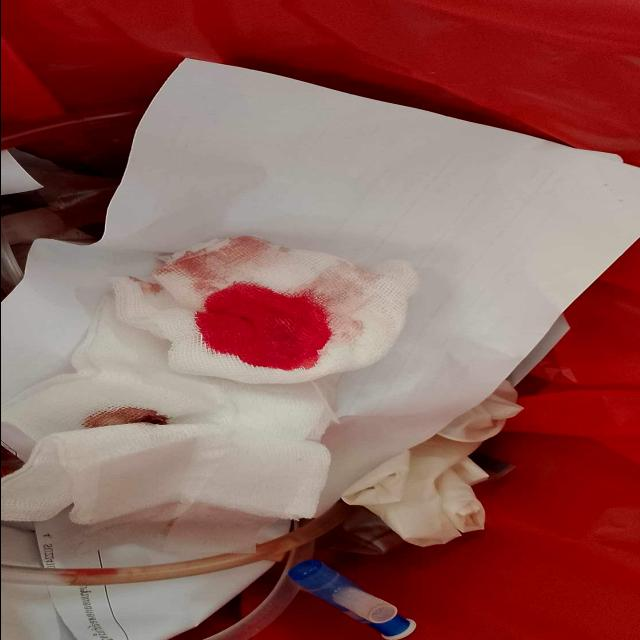Infectious: (109, 236, 421, 386)
Pathological: (3, 58, 638, 638)
Sharps: (284, 560, 418, 640)
